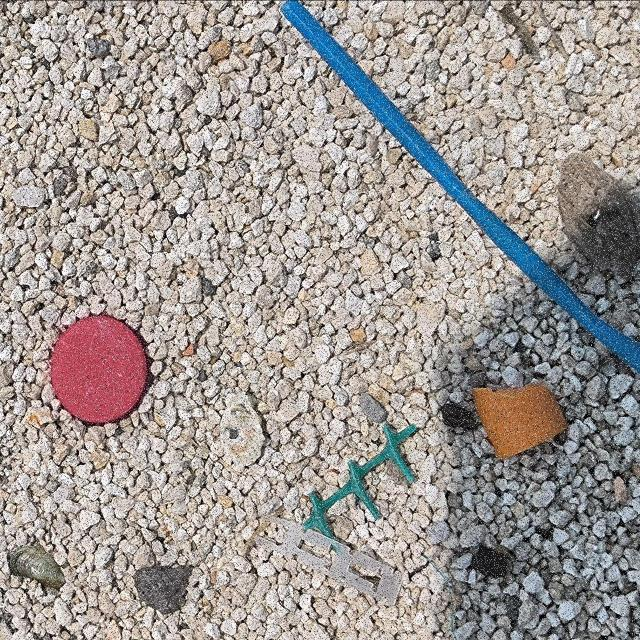plastic_waste: (281, 1, 640, 374), (53, 313, 149, 427)
